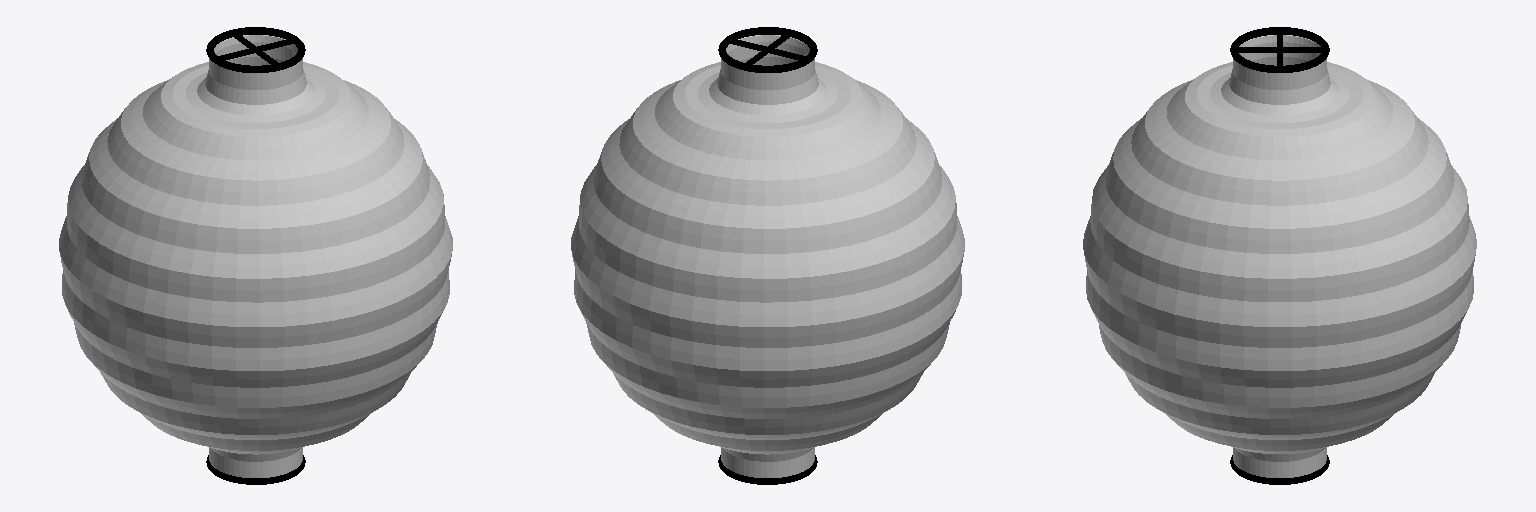
File: Lantern_Sphere.obj
3 views of the same model, side by side, from view 1: azimuth 30°, elevation 25°; view 2: azimuth 150°, elevation 25°; view 3: azimuth 270°, elevation 25° (orthographic).
Parts seen in each view (by area): view 1: Lantern_Sphere.002, Top_Cylinder.002, Bottom_Cylinder; view 2: Lantern_Sphere.002, Top_Cylinder.002, Bottom_Cylinder; view 3: Lantern_Sphere.002, Top_Cylinder.002, Bottom_Cylinder.
Part boxes in pixels (bbox=[...]): Lantern_Sphere.002: bbox=[59, 35, 452, 477]; Top_Cylinder.002: bbox=[206, 27, 305, 72]; Bottom_Cylinder: bbox=[206, 455, 305, 484]; Lantern_Sphere.002: bbox=[571, 35, 964, 477]; Top_Cylinder.002: bbox=[718, 27, 817, 72]; Bottom_Cylinder: bbox=[718, 455, 817, 484]; Lantern_Sphere.002: bbox=[1083, 35, 1476, 477]; Top_Cylinder.002: bbox=[1230, 27, 1329, 72]; Bottom_Cylinder: bbox=[1230, 455, 1329, 484].
Bounding box in the file's own units: 0.5157 × 0.6048 × 0.5167.